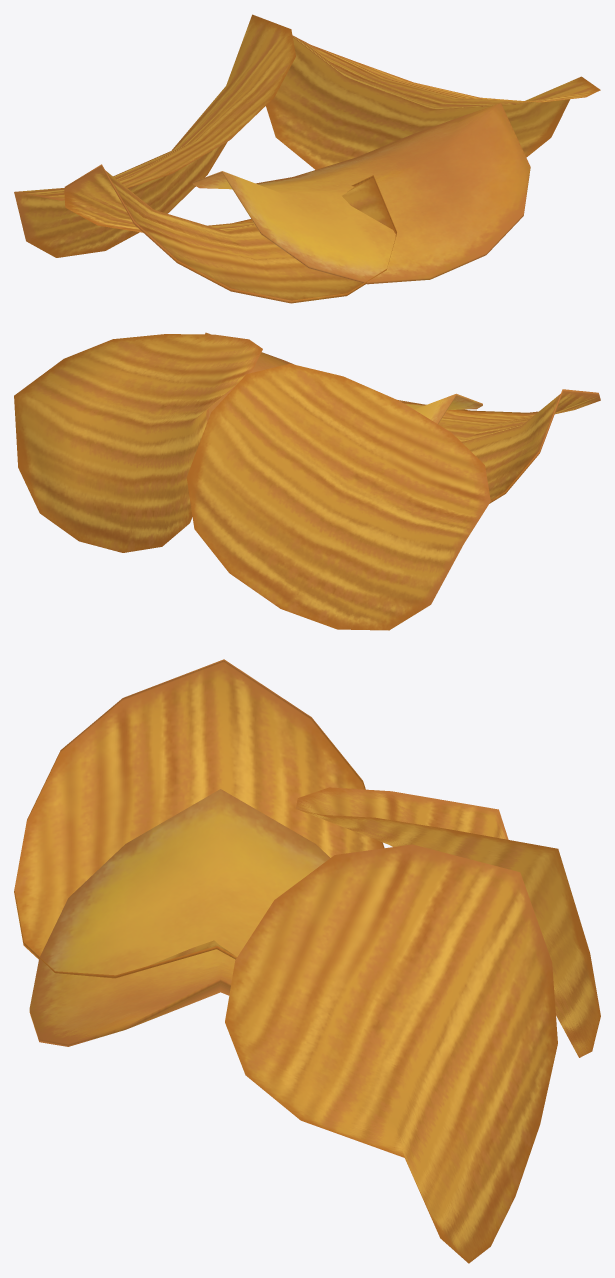
Rendered from Chips.glb.
The picture shows the model from 3 angles, top to bottom: view 1: azimuth 30°, elevation 25°; view 2: azimuth 150°, elevation 25°; view 3: azimuth 270°, elevation 25°; orthographic projection. The views are drawn at different scales.
Parts seen in each view (by area): view 1: Object_4.002; view 2: Object_4.002; view 3: Object_4.002.
Boxes of the visible parts, x1,y1,x2,y2 form: Object_4.002: (14,14,600,303); Object_4.002: (14,332,600,630); Object_4.002: (14,659,600,1263).
Bounding box in the file's own units: 0.2728 × 0.103 × 0.1809.
Materials: 1 (1 with a texture image).
